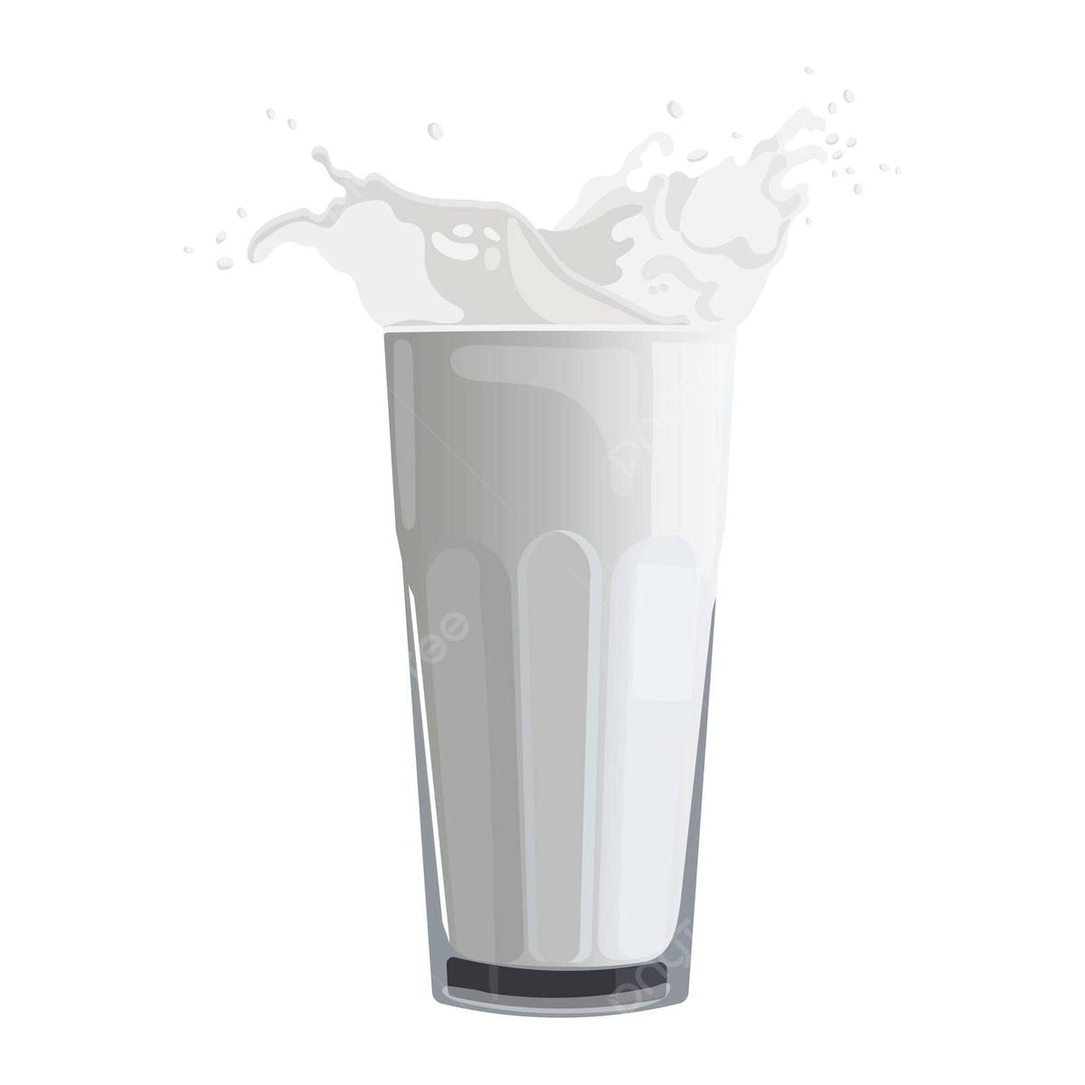produk_susu: (407, 227, 688, 1001)
